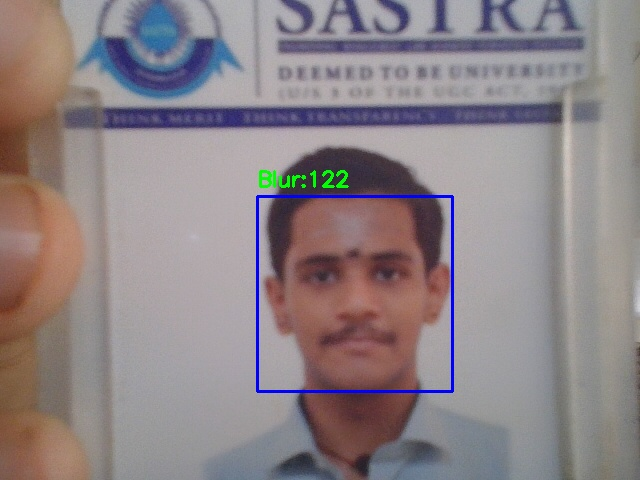fake: (257, 196, 452, 391)
